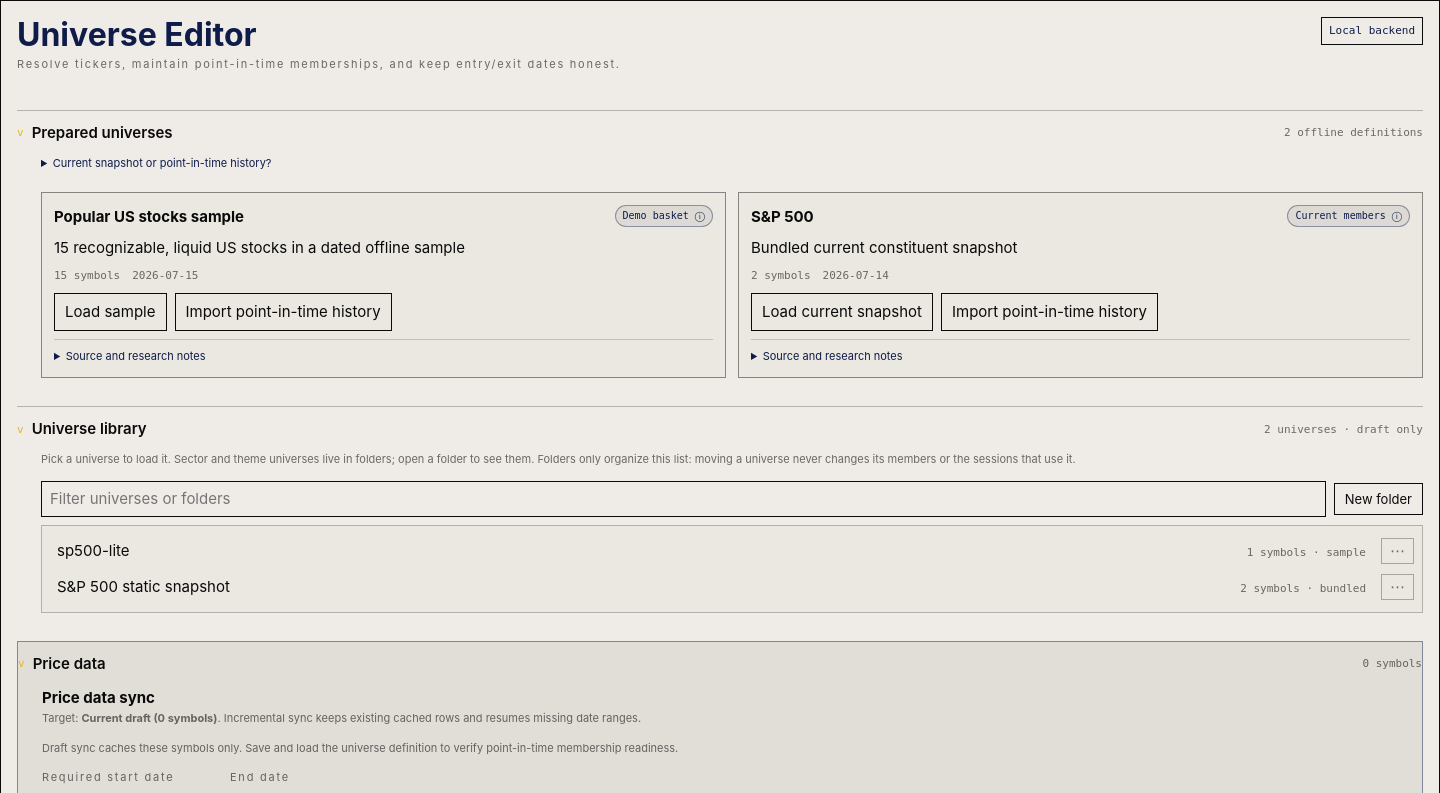
Scenario: UniverseEditorPage › keeps snapshot bias disclosure compact while preparing a separate PIT import
This screenshot has width=1440, height=793.
Check: the text "Current members ⓘ" is shown, box [1288,205,1410,227]
Check: the text "current snapshot is not valid" is not shown
Click the heading "Source and research notes" below "2026-07-14". click: (833, 356)
box: [763,349,902,363]
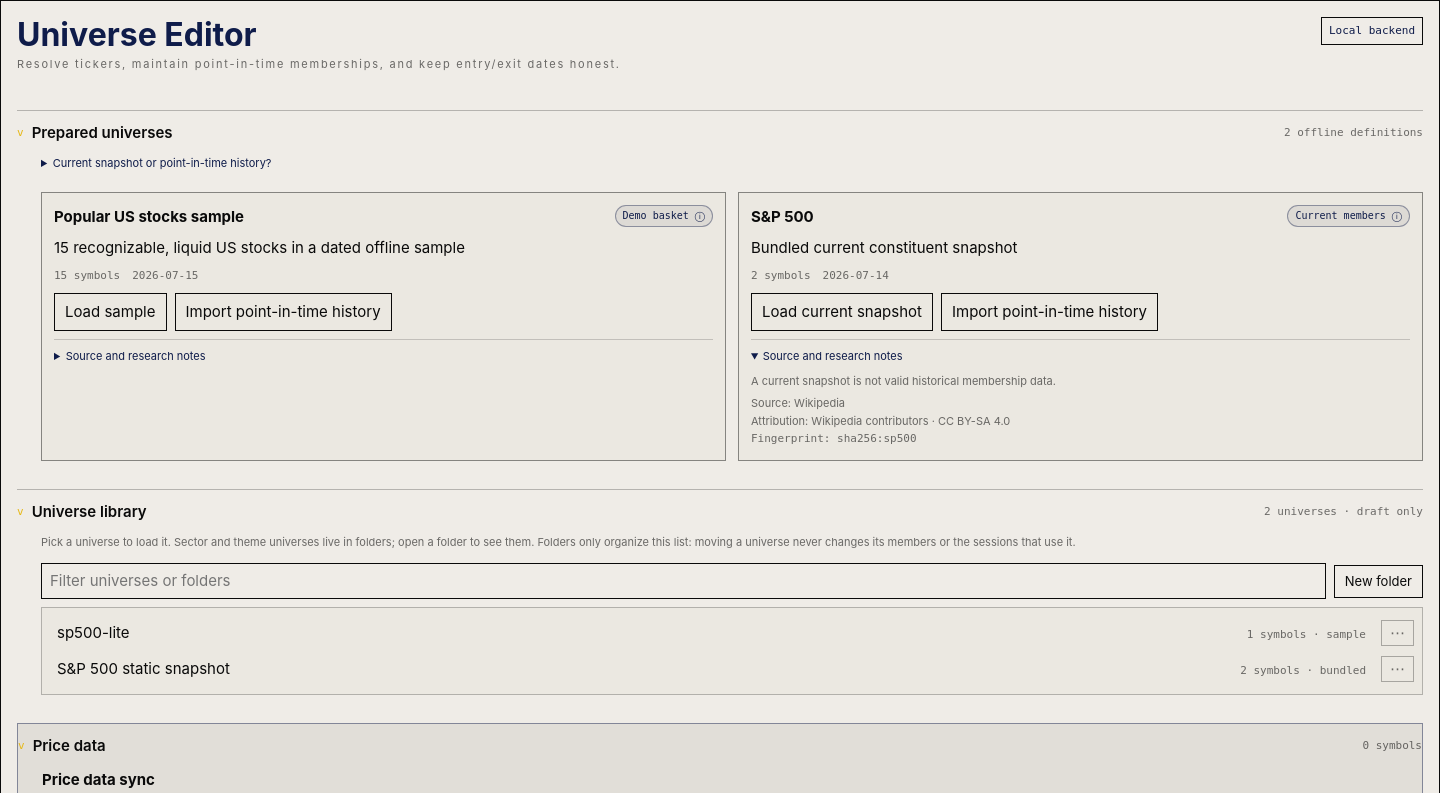
Check: the text "A current snapshot is not valid historical membership data." is shown, box [751,374,1056,388]
Click the button "Import point-in-time history" below "2026-07-14". click: (1050, 312)
box: [941,293,1158,331]
(page scrolled)
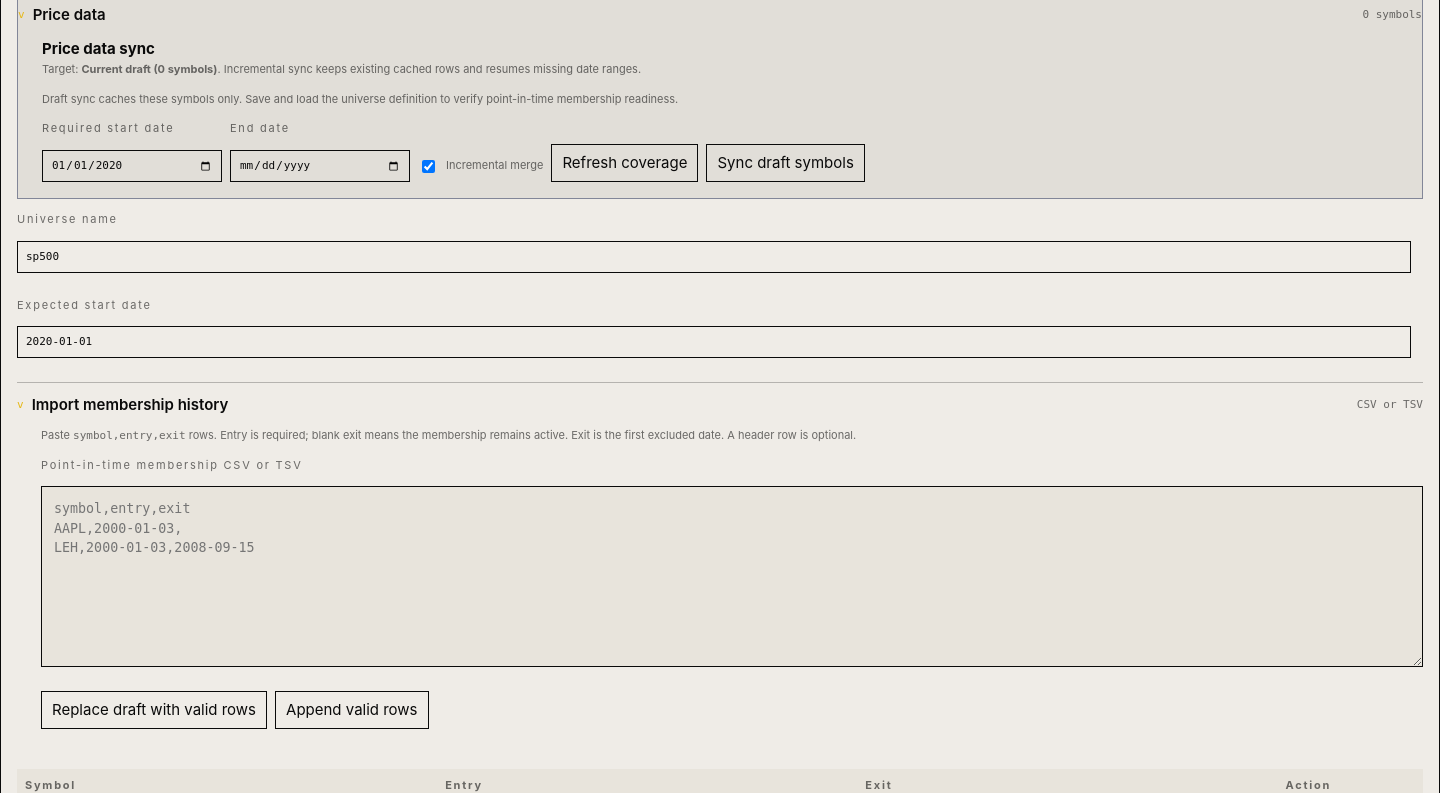
Check: the field labelled "Universe name" holds "sp500", box [17,241,1411,273]
Check: the button "v Import membership history CSV or TSV" is expanded, box [17,383,1423,427]
